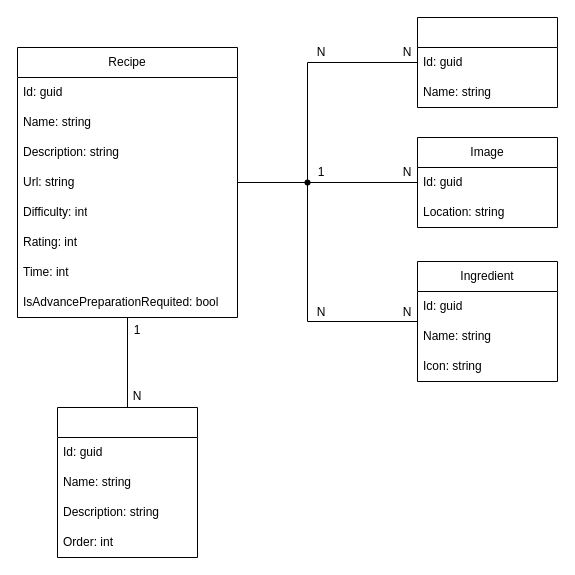
This 575x575 diagram has some shape labels left out. Each missing label, with the box of its shape:
Step: (56, 406, 198, 558)
Tag: (416, 16, 558, 108)
